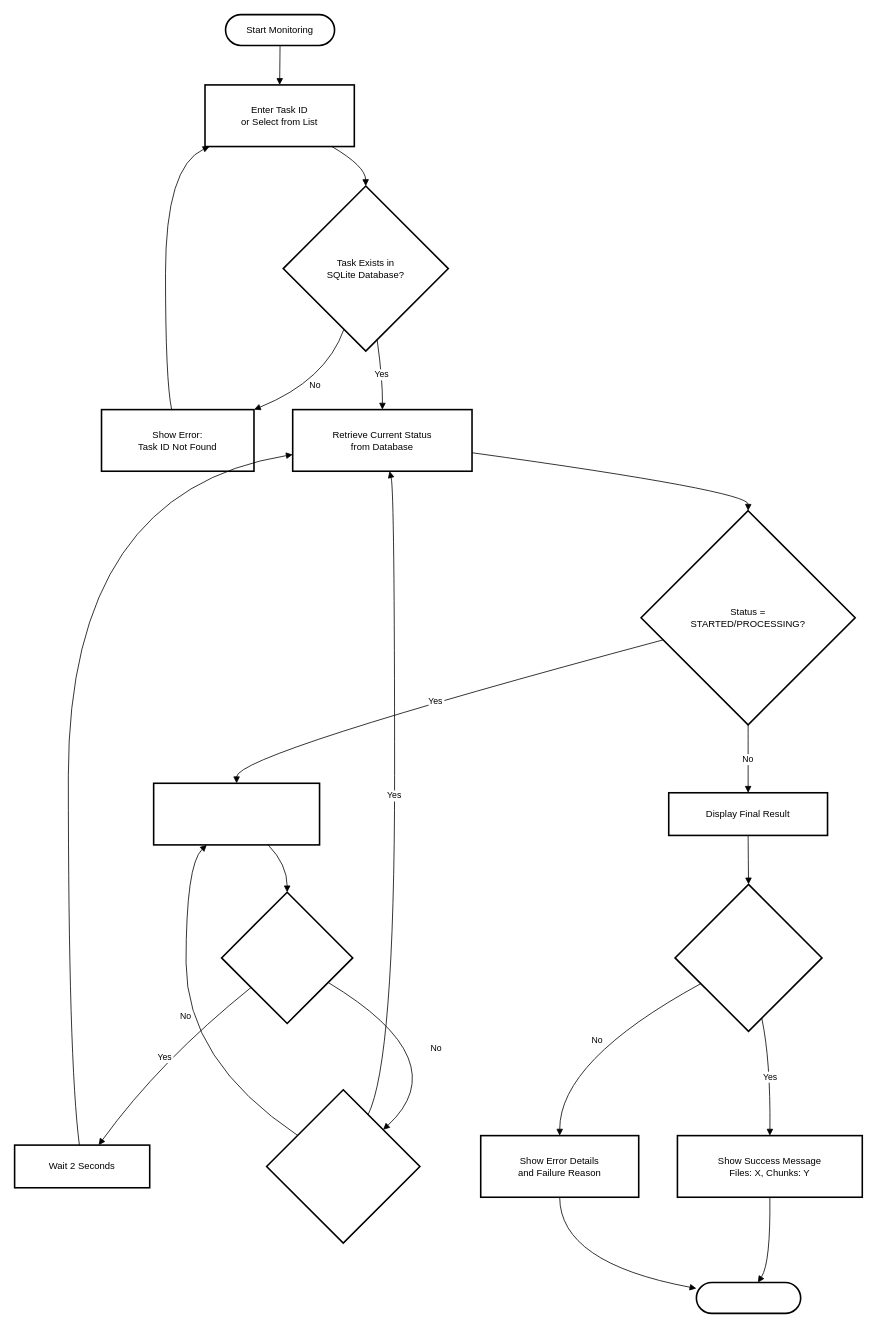
Image size: 876x1327. Some labels were removed from this diagram. The shapes that lost their labels are listed below. From the top down, each one's box as (x1, y1, x2, y2) in pixels, then its label:
(152, 782, 320, 845): Display Progress Bar Current File: X of Y
(220, 891, 353, 1024): Auto-refresh Enabled?
(674, 883, 822, 1032): Final Status = COMPLETED?
(265, 1089, 420, 1243): User Clicked Refresh Button?
(695, 1281, 801, 1314): Monitoring End
